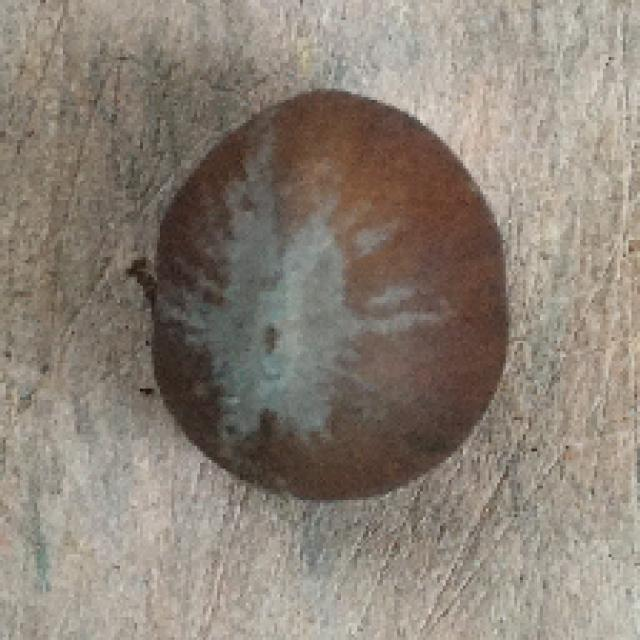qualityHazelnut: (137, 93, 510, 510)
